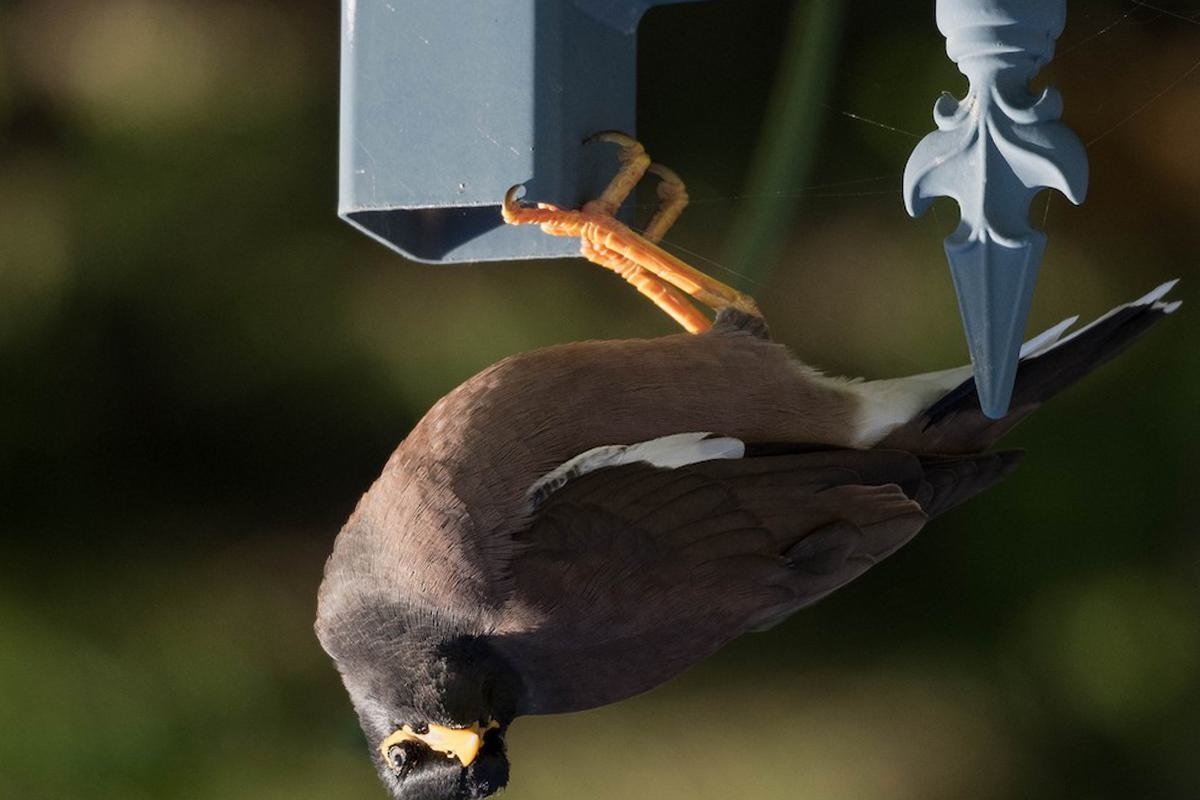myna: (284, 148, 1067, 800)
